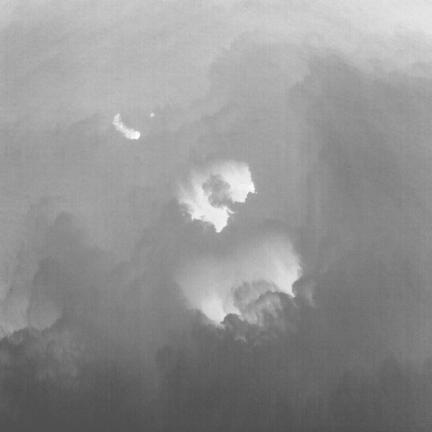flukeprints: (179, 183, 232, 232), (209, 160, 254, 202), (130, 130, 139, 138)
